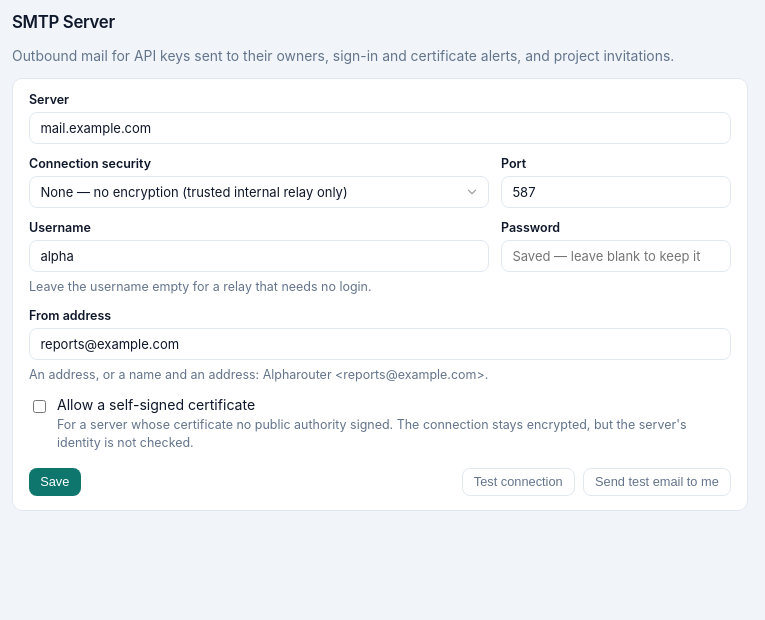
Test: the SMTP Server page › warns loudly about no encryption and has no certificate to excuse
Select "None — no encryption (trusted internal relay only)" in the dropdown with id "smtp-security" at [259, 192], box left=29, top=176, right=489, bottom=208
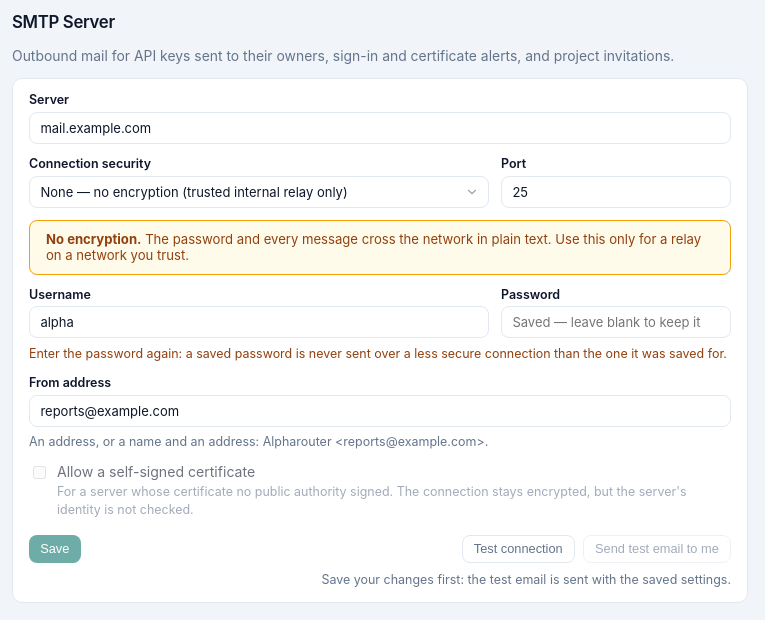
Check: the text "No encryption." is shown, box left=46, top=231, right=142, bottom=247
Check: the checkbox with id "smtp-self-signed" is disabled, box left=33, top=466, right=46, bottom=479
